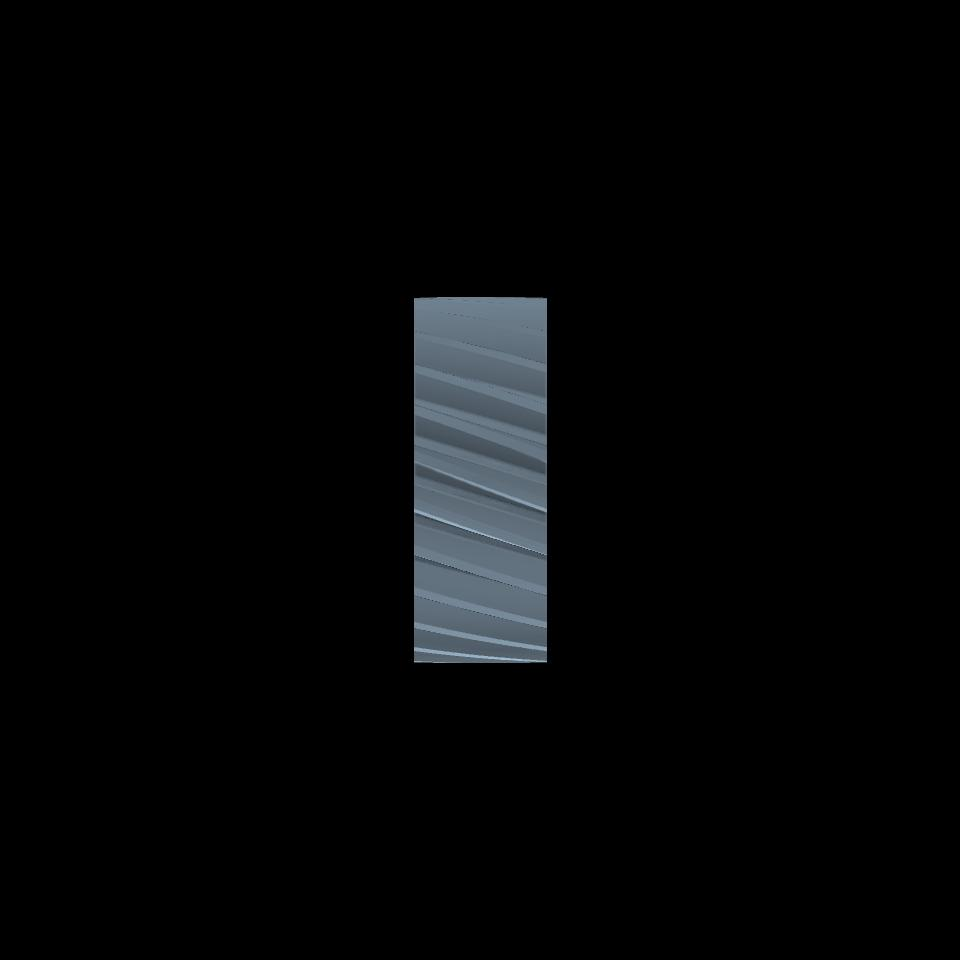Helical: (413, 297, 546, 662)
